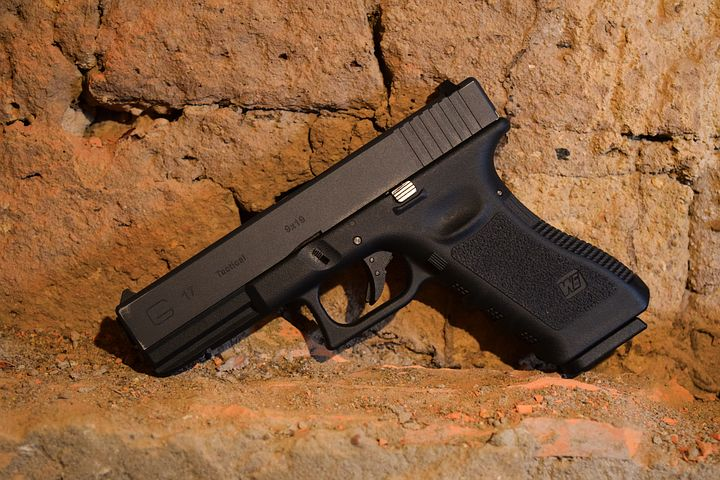gun: (114, 72, 653, 388)
